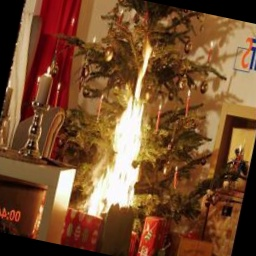fire: (80, 33, 179, 217)
